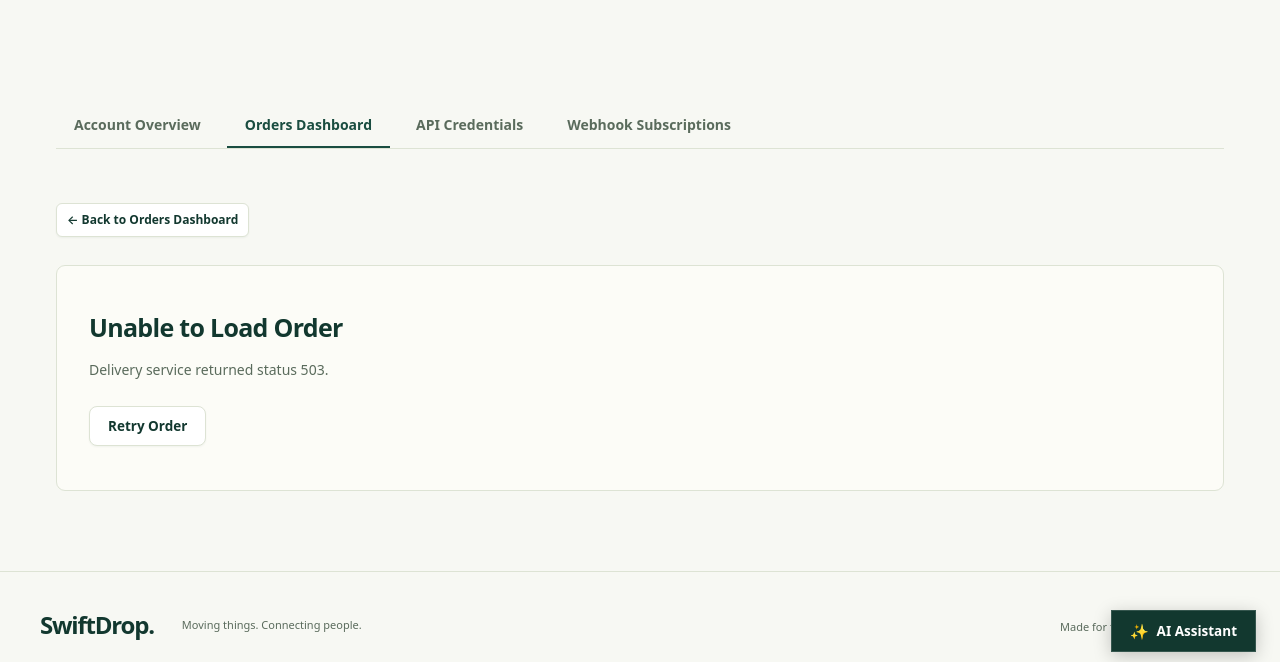
Scenario: MerchantOrderDetailPage › handles backend service failure with working retry button
The image size is (1280, 662).
(page scrolled)
Expected: the message shows "Unable to Load Order", [89,310,343,344]
Click the button "Retry Order": coordinates (148, 426) [89,406,206,446]
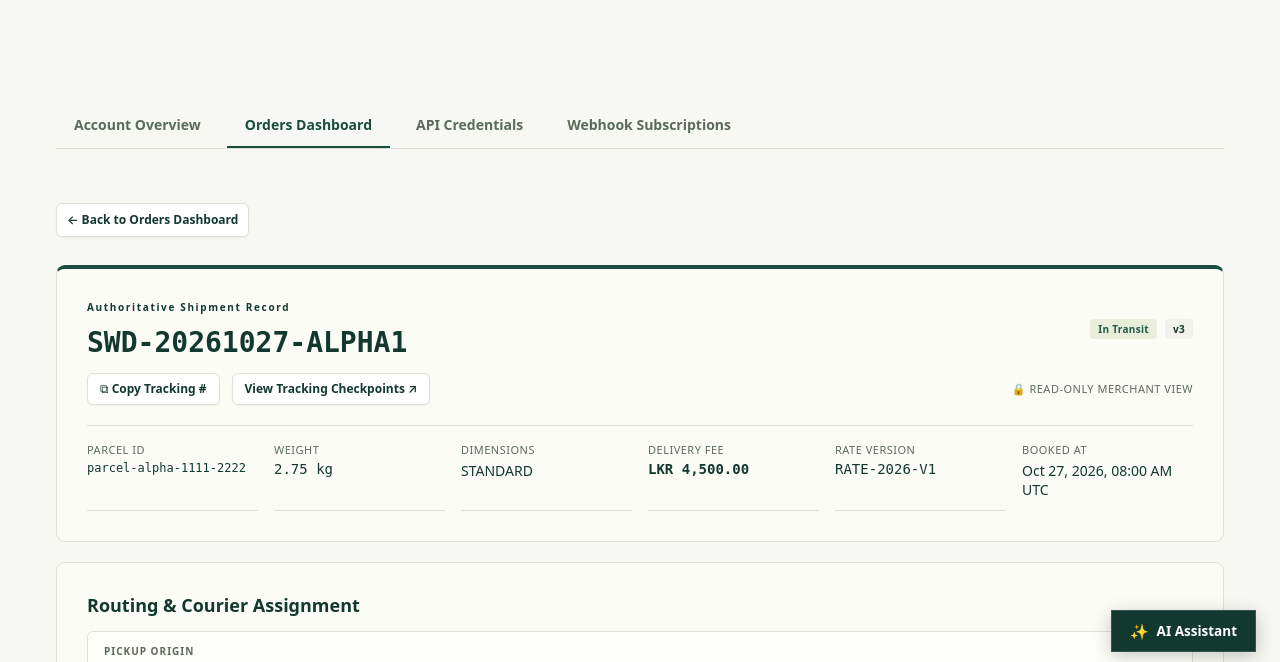
Expected: the heading "SWD-20261027-ALPHA1" is shown, [87,326,407,359]
